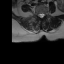CCS_normal: (40, 12, 42, 19)
LFS_normal: (44, 11, 45, 17)
LLS_normal: (42, 12, 44, 18)
RFS_normal: (37, 11, 39, 18)
RLS_normal: (39, 12, 40, 18)
